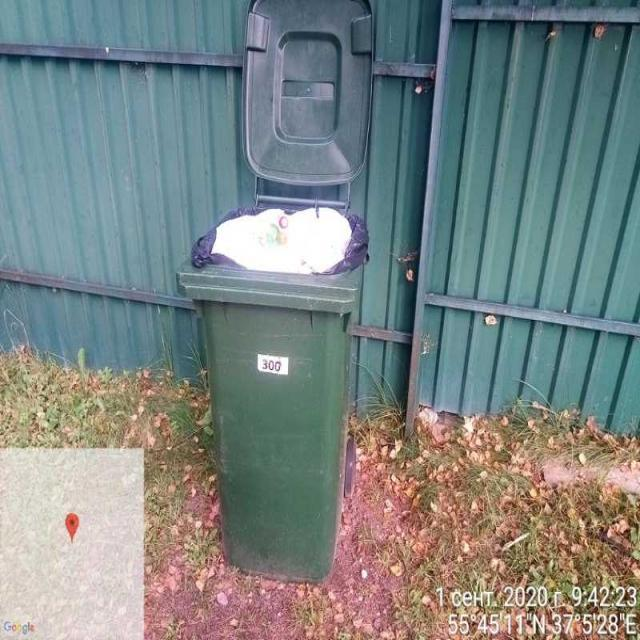Dumpster: (174, 208, 366, 581)
